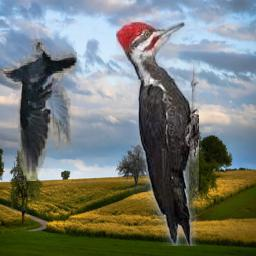Crow: (0, 39, 77, 181)
Woodpecker: (117, 22, 200, 246)
